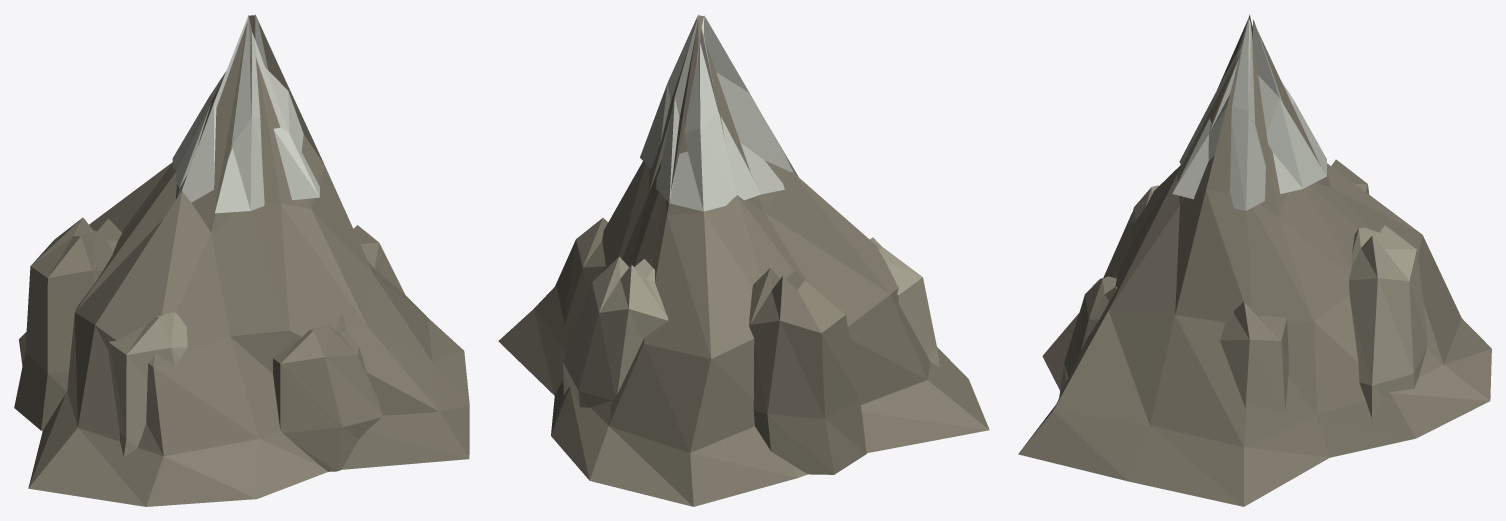
Rendered from snowcap-peak.glb.
The picture shows the model from 3 angles, left to right: view 1: azimuth 30°, elevation 25°; view 2: azimuth 150°, elevation 25°; view 3: azimuth 270°, elevation 25°; orthographic projection. The views are drawn at different scales.
Visible parts, largest first — view 1: snowcap-peak; view 2: snowcap-peak; view 3: snowcap-peak.
Boxes of the visible parts, <box> form: snowcap-peak: <box>14,14,469,506</box>; snowcap-peak: <box>498,14,989,506</box>; snowcap-peak: <box>1018,14,1491,506</box>.
Bounding box in the file's own units: 8.08 × 6.37 × 7.04.
